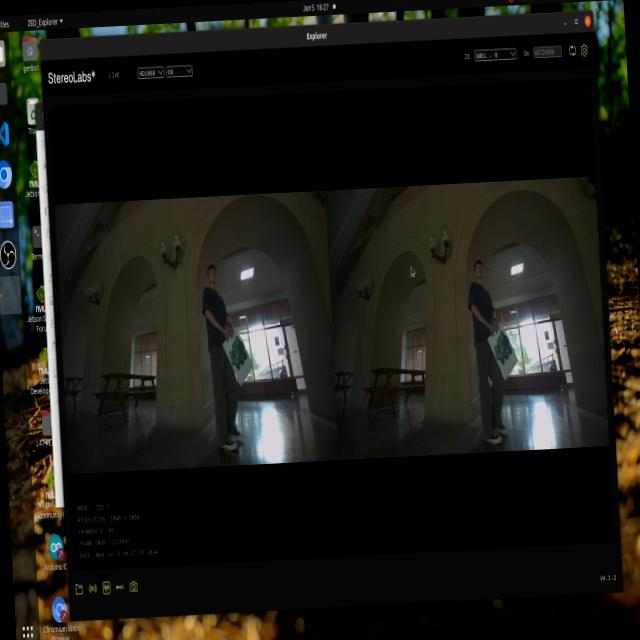green: (486, 321, 516, 368), (224, 334, 255, 378)
